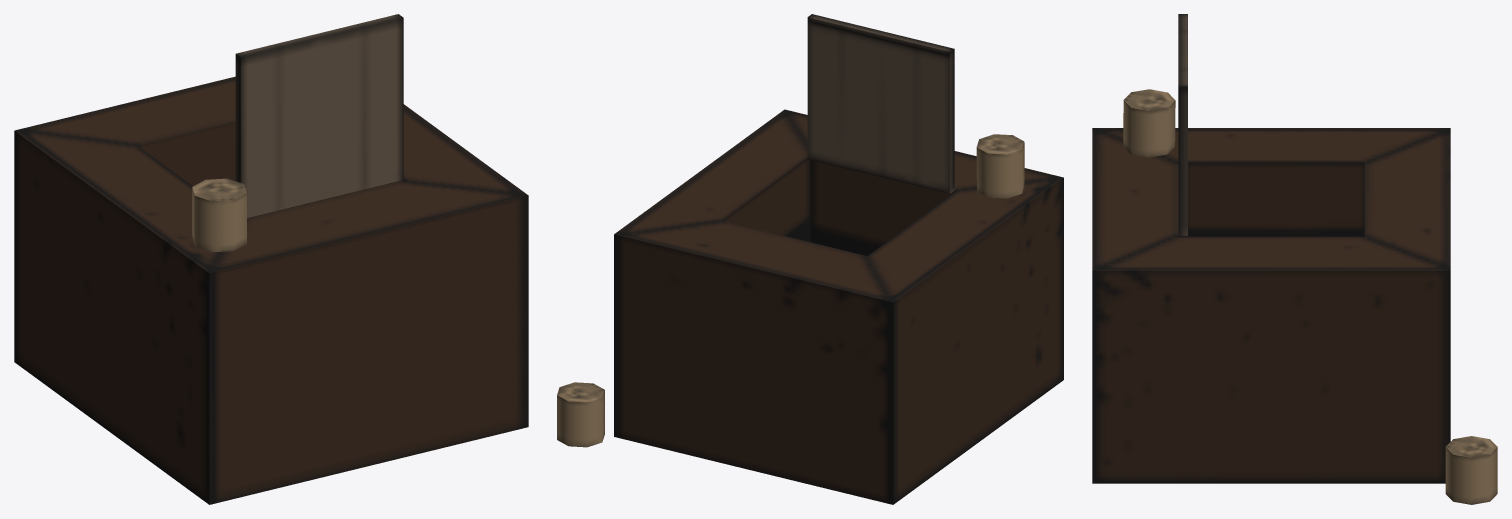
The model's file is Toilet.fbx.
3 views of the same model, side by side, from view 1: azimuth 30°, elevation 25°; view 2: azimuth 150°, elevation 25°; view 3: azimuth 270°, elevation 25° (orthographic). The views are drawn at different scales.
Parts seen in each view (by area): view 1: Toilet (Mesh); view 2: Toilet (Mesh); view 3: Toilet (Mesh).
Part boxes in pixels (box(x1,y1,x2,y2)): Toilet (Mesh): box(14, 14, 528, 504); Toilet (Mesh): box(557, 14, 1063, 504); Toilet (Mesh): box(1092, 14, 1497, 504).
Bounding box in the file's own units: 0.8725 × 0.8876 × 0.9016.
1 material, 1 textured.
